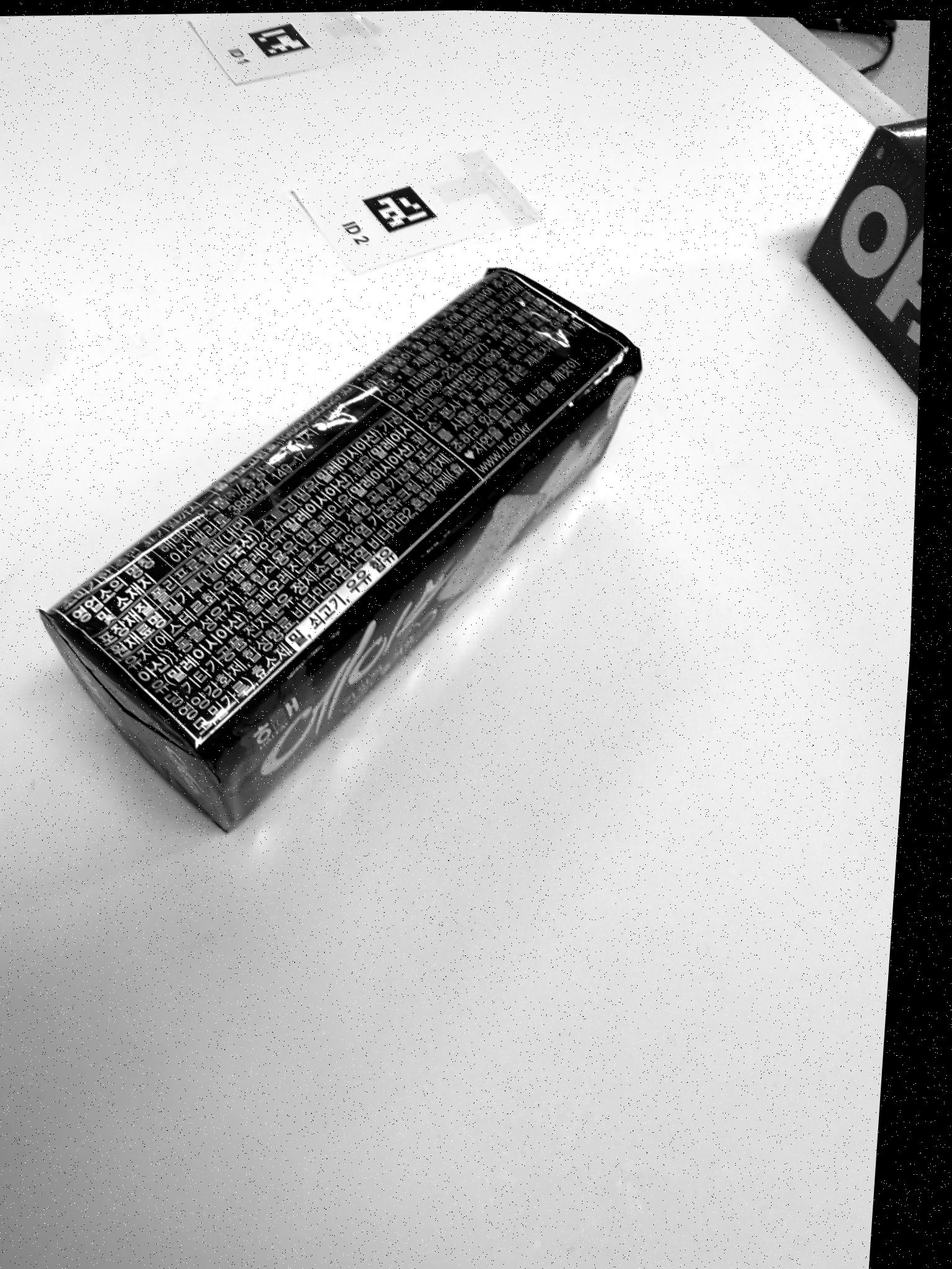cracker_ace: (42, 268, 641, 830)
